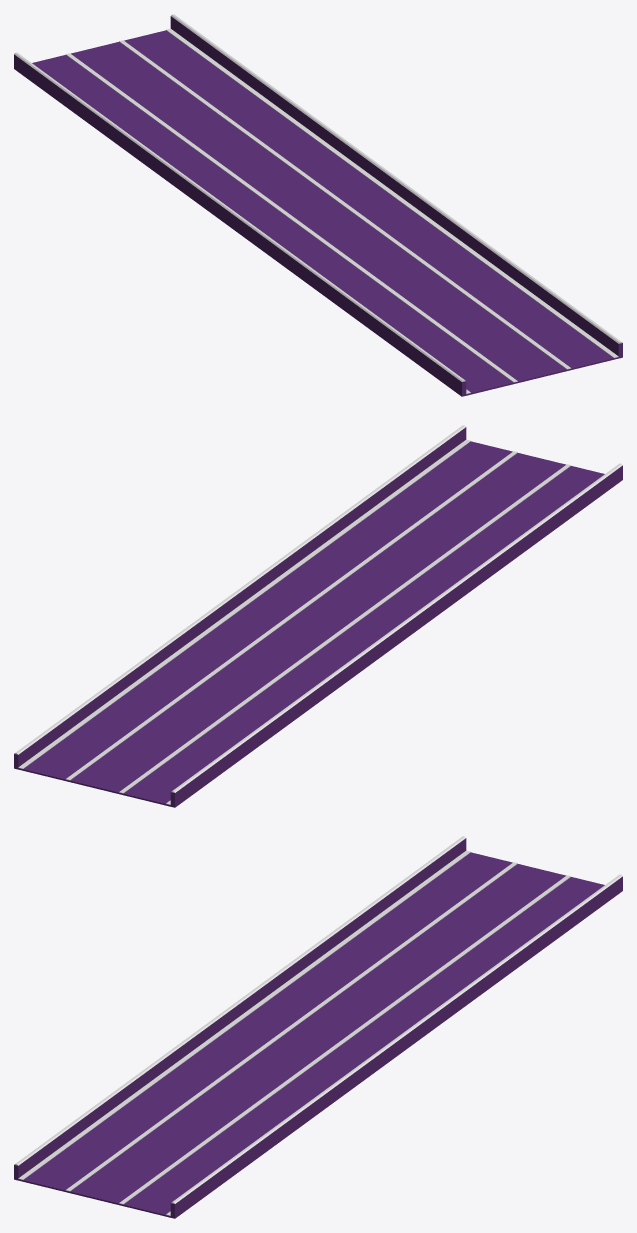
Rendered from Road_smaller.fbx.
3 renders of one model, top to bottom at view 1: azimuth 30°, elevation 25°; view 2: azimuth 150°, elevation 25°; view 3: azimuth 330°, elevation 25°, orthographic.
Parts seen in each view (by area): view 1: polySurface1; view 2: polySurface1; view 3: polySurface1.
Boxes of the visible parts, left/top/right/bottom form: polySurface1: left=14, top=14, right=622, bottom=396; polySurface1: left=14, top=425, right=622, bottom=807; polySurface1: left=14, top=836, right=622, bottom=1218.
Size of the model in its own units: 29.58 by 2.77 by 142.
